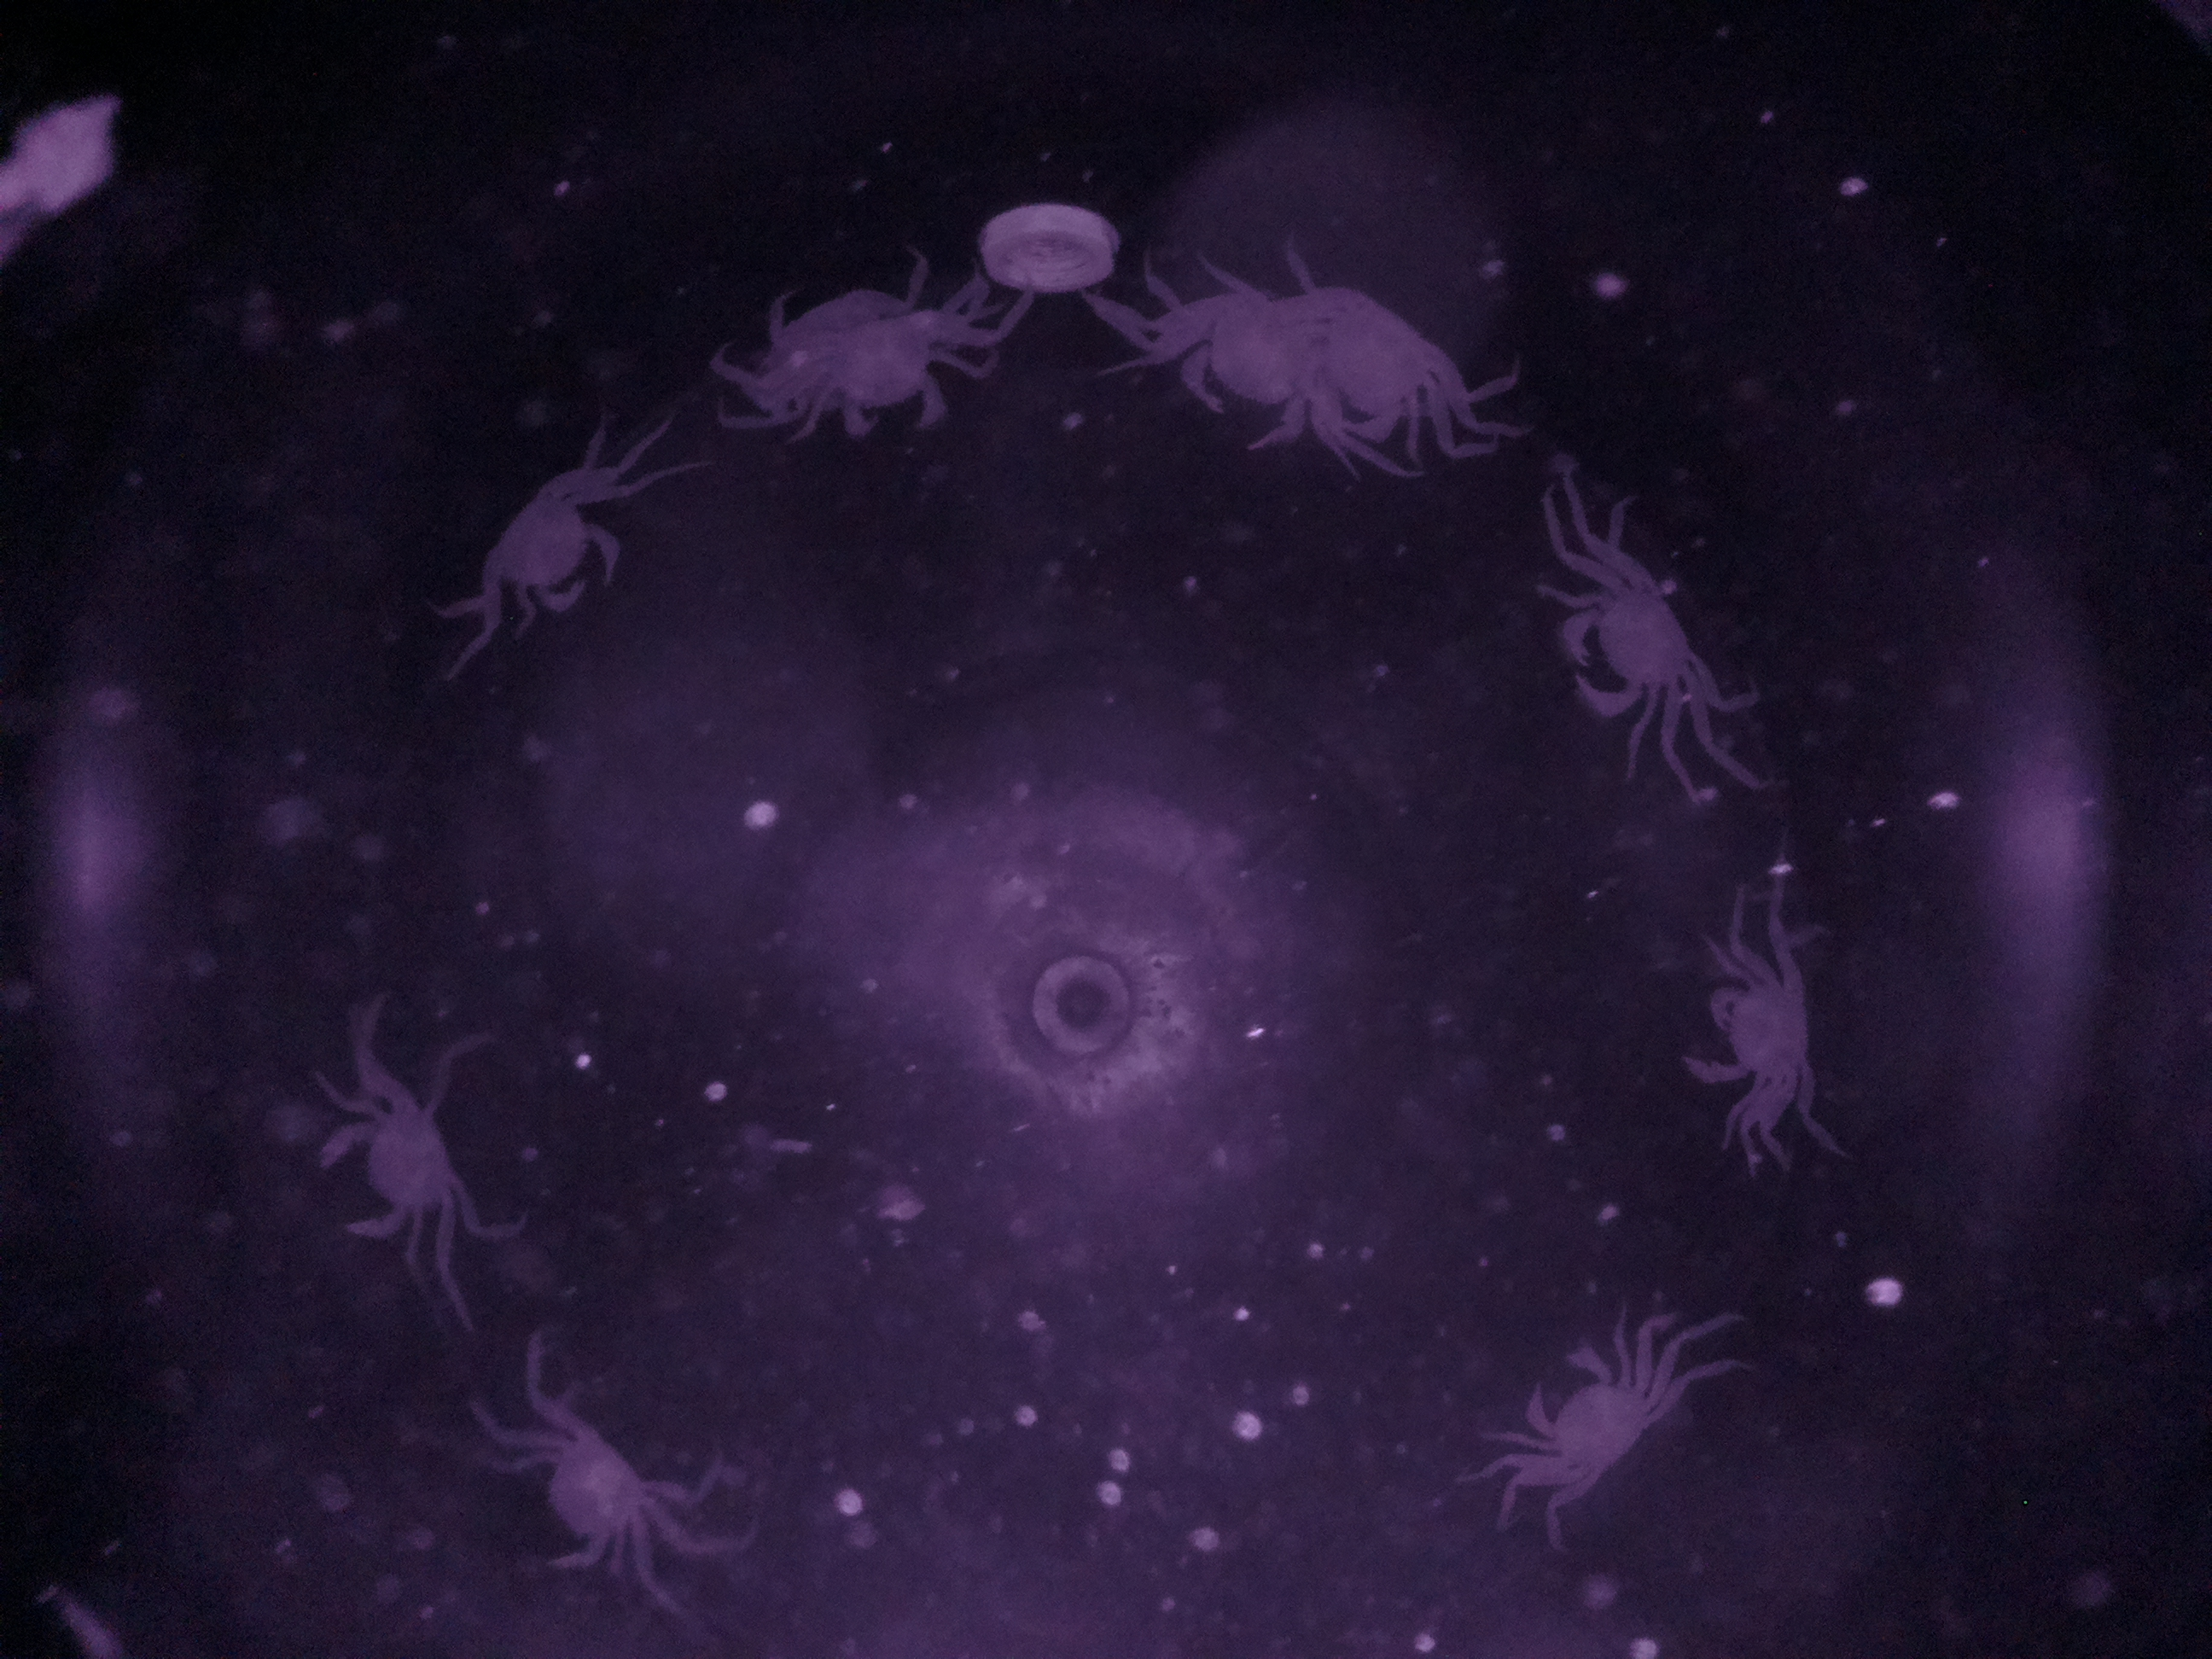Crab: (1474, 1323, 1689, 1530), (1547, 532, 1731, 749), (502, 1389, 681, 1593), (301, 1072, 482, 1262), (460, 451, 637, 640), (1674, 936, 1844, 1131)
